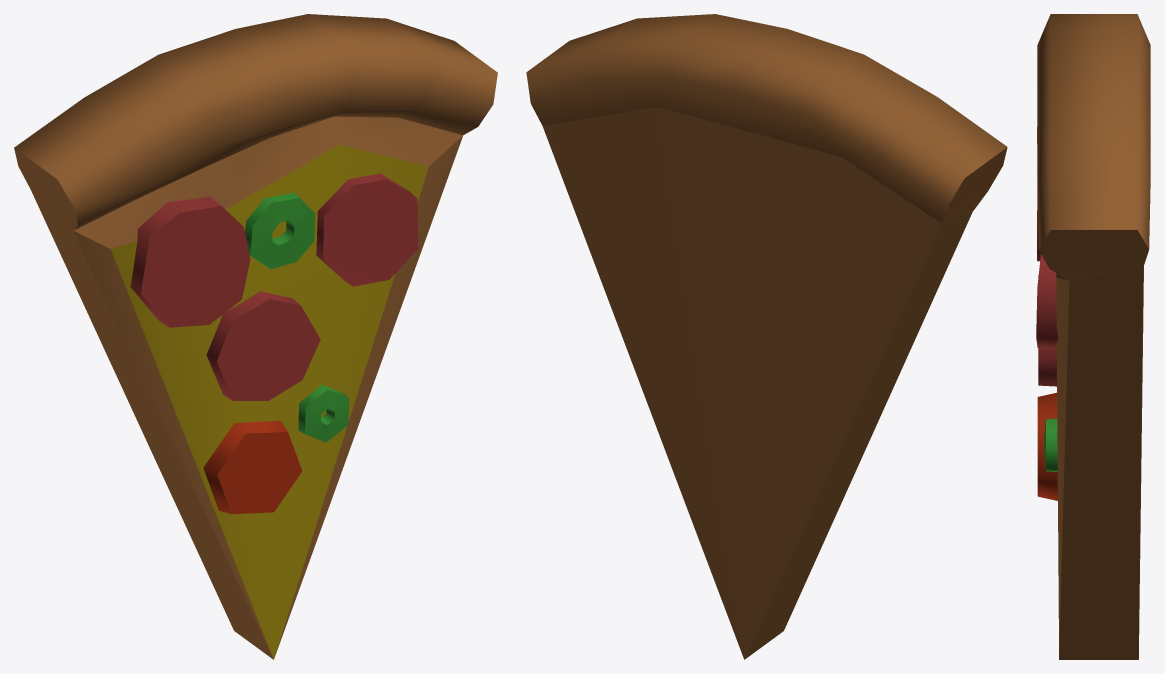
Rendered from food_pizzaslice_01.fbx.
3 renders of one model, left to right at view 1: azimuth 30°, elevation 25°; view 2: azimuth 150°, elevation 25°; view 3: azimuth 270°, elevation 25°, orthographic.
Visible parts, largest first — view 1: food_pizzaslice_01; view 2: food_pizzaslice_01; view 3: food_pizzaslice_01.
Boxes of the visible parts, x1,y1,x2,y2 form: food_pizzaslice_01: (14,14,497,659); food_pizzaslice_01: (526,14,1007,659); food_pizzaslice_01: (1036,14,1150,659).
Size of the model in its own units: 37.32 by 48.72 by 8.4.
